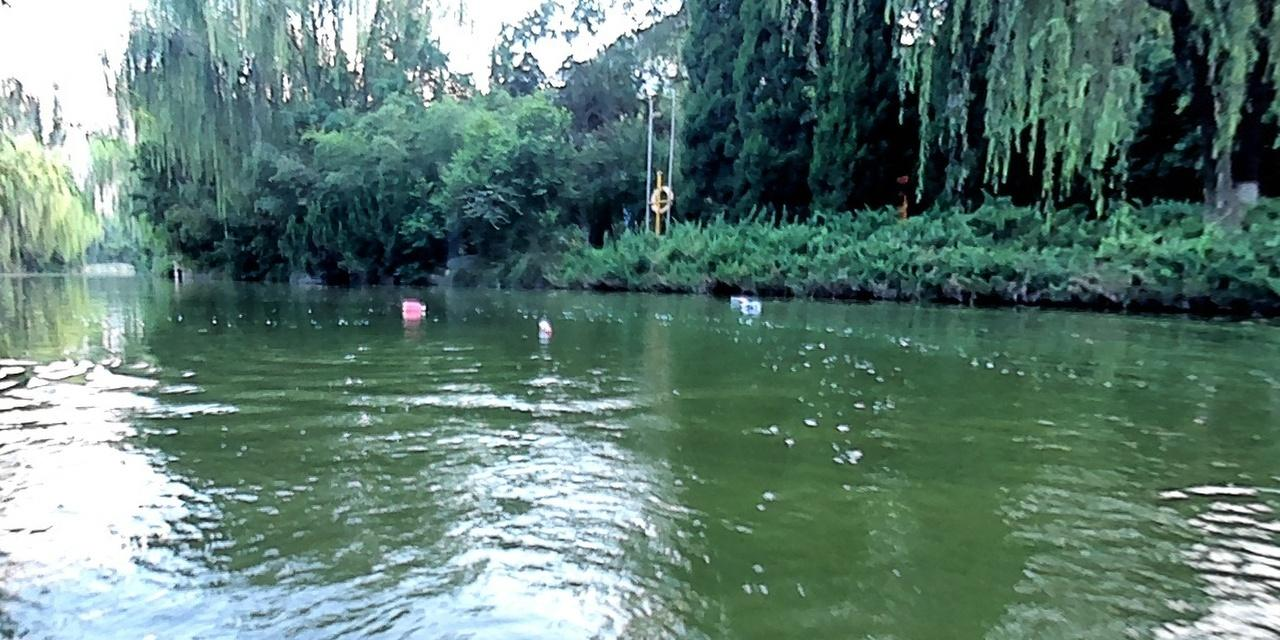bottle: (401, 299, 424, 313), (743, 300, 760, 314), (538, 319, 550, 336)
